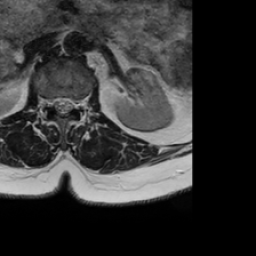CCS_normal: (59, 89, 66, 124)
LFS_normal: (74, 90, 82, 116)
LLS_normal: (66, 89, 74, 118)
RFS_normal: (43, 90, 51, 113)
RLS_normal: (51, 89, 59, 117)
